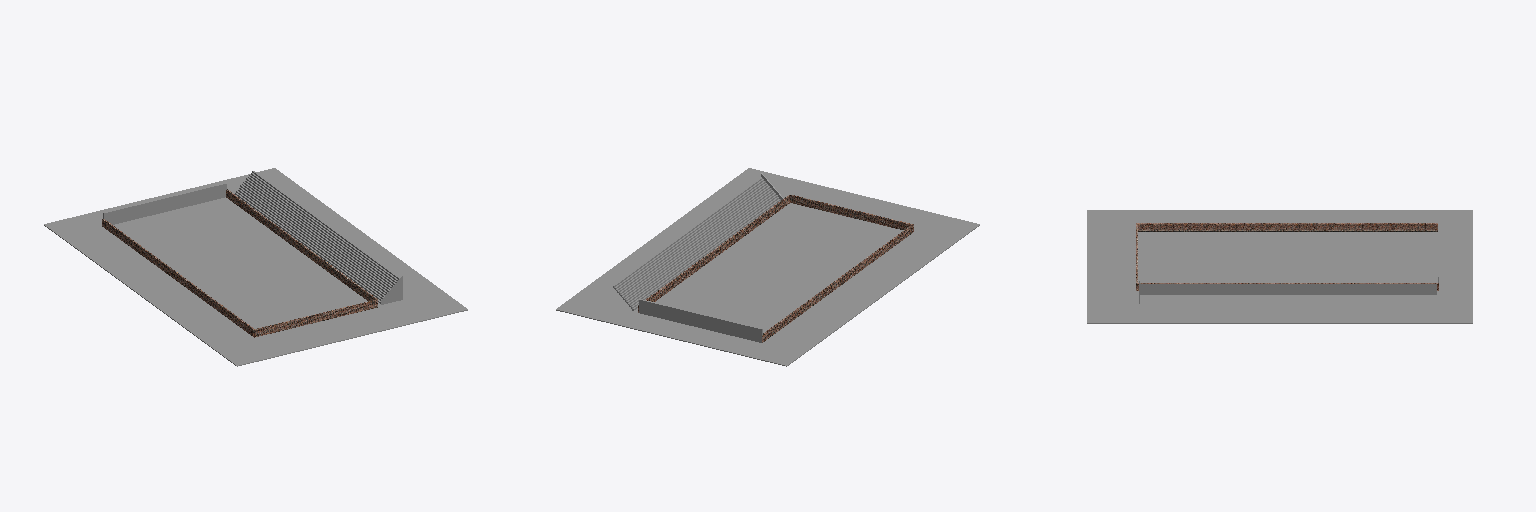
3 renders of one model, left to right at view 1: azimuth 30°, elevation 25°; view 2: azimuth 150°, elevation 25°; view 3: azimuth 270°, elevation 25°, orthographic.
Visible parts, largest first — view 1: Cube_Cube.005, Cube.005_Cube.006, Cube.003_Cube.002, Cube.001_Cube, Cube.002_Cube.001, Cube.004; view 2: Cube_Cube.005, Cube.005_Cube.006, Cube.003_Cube.002, Cube.001_Cube, Cube.002_Cube.001, Cube.004; view 3: Cube_Cube.005, Cube.005_Cube.006, Cube.001_Cube.
Part boxes in pixels (bbox=[...]): Cube_Cube.005: bbox=[44, 168, 467, 366]; Cube.005_Cube.006: bbox=[235, 171, 399, 303]; Cube.003_Cube.002: bbox=[103, 183, 226, 224]; Cube.001_Cube: bbox=[102, 219, 253, 336]; Cube.002_Cube.001: bbox=[226, 189, 377, 300]; Cube.004: bbox=[254, 300, 377, 337]; Cube_Cube.005: bbox=[556, 168, 979, 366]; Cube.005_Cube.006: bbox=[613, 177, 780, 310]; Cube.003_Cube.002: bbox=[639, 299, 762, 342]; Cube.001_Cube: bbox=[762, 225, 912, 342]; Cube.002_Cube.001: bbox=[638, 195, 789, 312]; Cube.004: bbox=[790, 195, 913, 231]; Cube_Cube.005: bbox=[1087, 210, 1472, 323]; Cube.005_Cube.006: bbox=[1140, 284, 1436, 294]; Cube.001_Cube: bbox=[1137, 223, 1437, 231].
Bounding box in the file's own units: 30.97 × 3.3 × 44.84.
Materials: 8 (1 with a texture image).